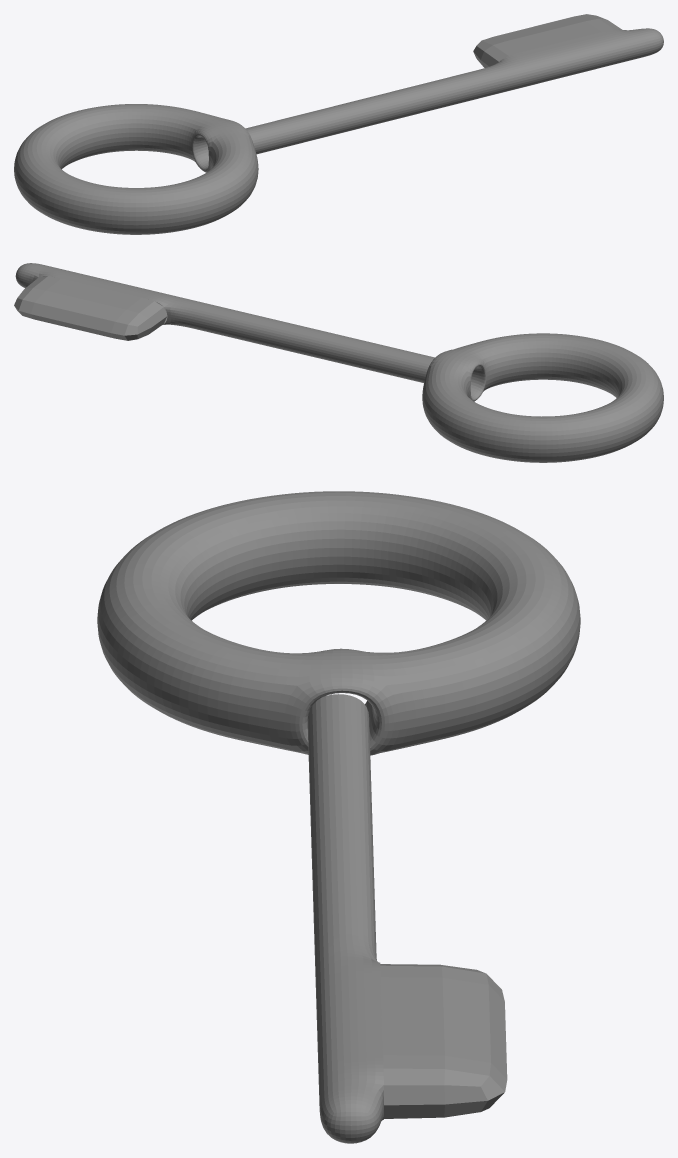
File: Key.fbx
3 renders of one model, top to bottom at view 1: azimuth 30°, elevation 25°; view 2: azimuth 150°, elevation 25°; view 3: azimuth 270°, elevation 25°, orthographic. The views are drawn at different scales.
Parts seen in each view (by area): view 1: Cylinder.002; view 2: Cylinder.002; view 3: Cylinder.002.
Part boxes in pixels (bbox=[...]): Cylinder.002: bbox=[14, 14, 663, 234]; Cylinder.002: bbox=[14, 263, 663, 462]; Cylinder.002: bbox=[97, 491, 580, 1143].
Bounding box in the file's own units: 574 × 38.42 × 192.
